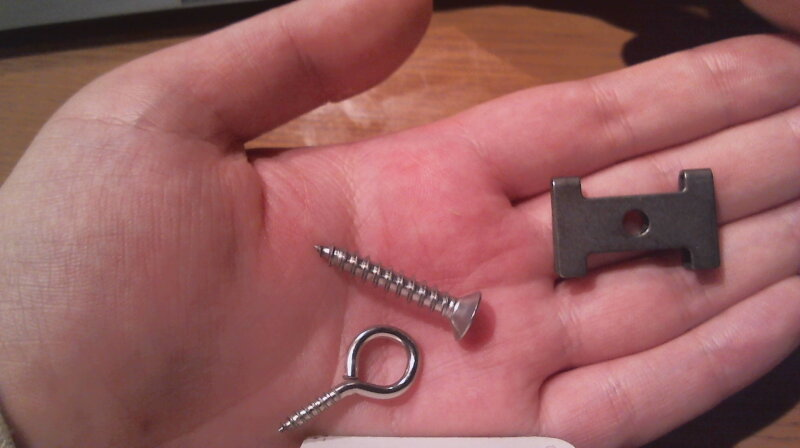O001: (273, 321, 422, 433)
O002: (532, 158, 730, 288)
S001: (311, 237, 486, 351)
